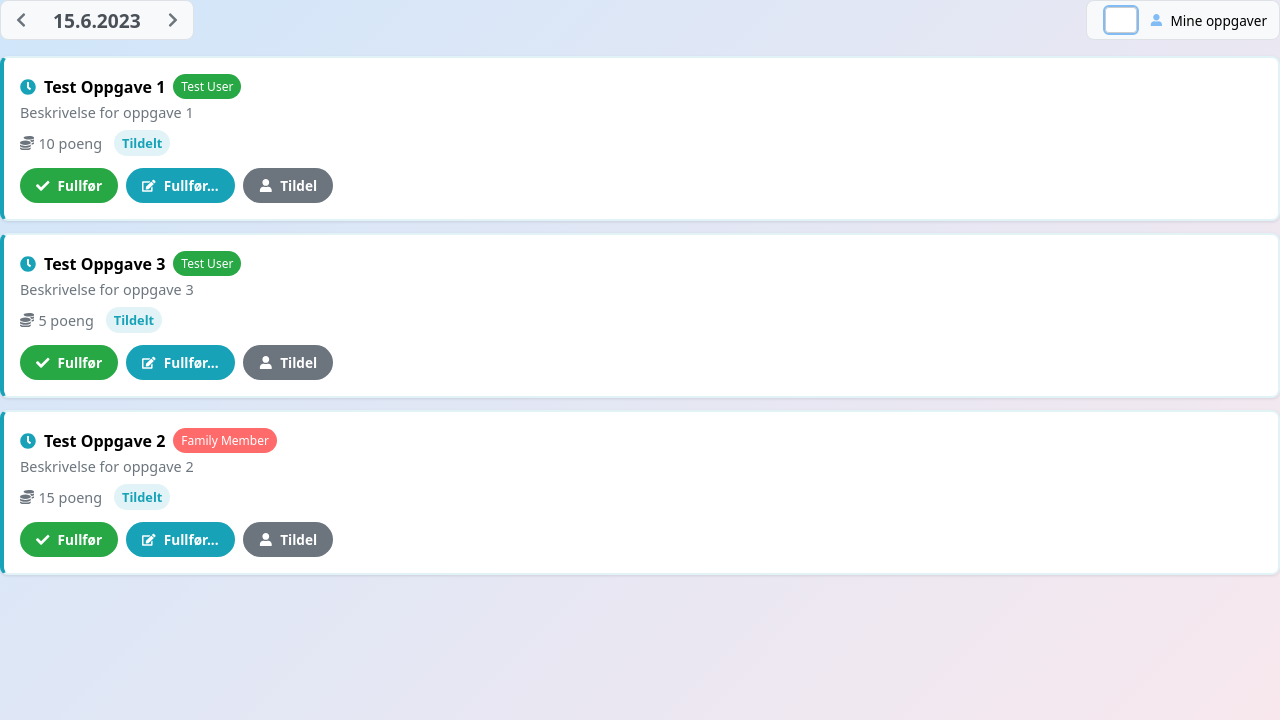
TaskList › Mine oppgaver filter › should toggle between all tasks and assigned tasks correctly
The image size is (1280, 720).
Expected: the heading "Test Oppgave 1 Test User" is shown, [20,74,241,99]
Expected: the heading "Test Oppgave 2 Family Member" is shown, [20,428,277,453]
// Toggle to show only assigned tasks (member-1 has task-1 and task-3 assigned)
Click the checkbox at [1121, 20], box [1103,5,1139,35]
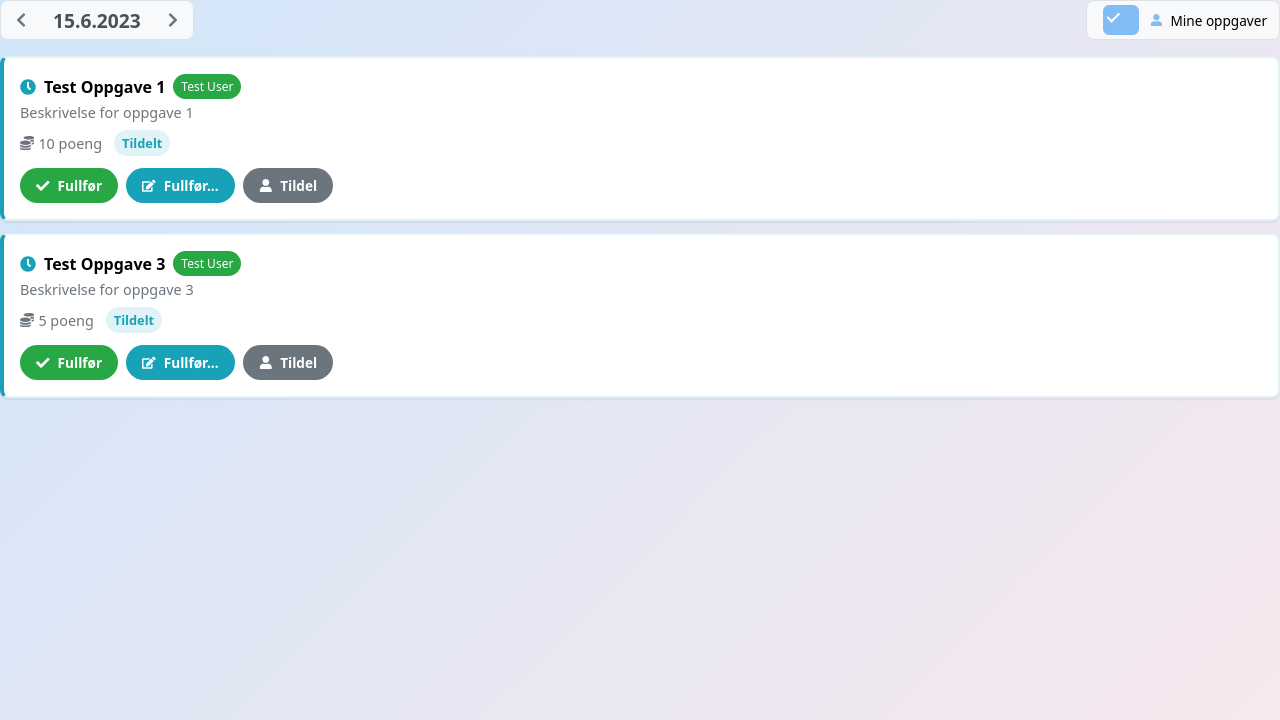
Expected: the heading "Test Oppgave 1 Test User" is shown, [20,74,241,99]
Now the heading "Test Oppgave 2" is gone
// Toggle back to show all tasks
Click the checkbox at [1121, 20], box [1103,5,1139,35]
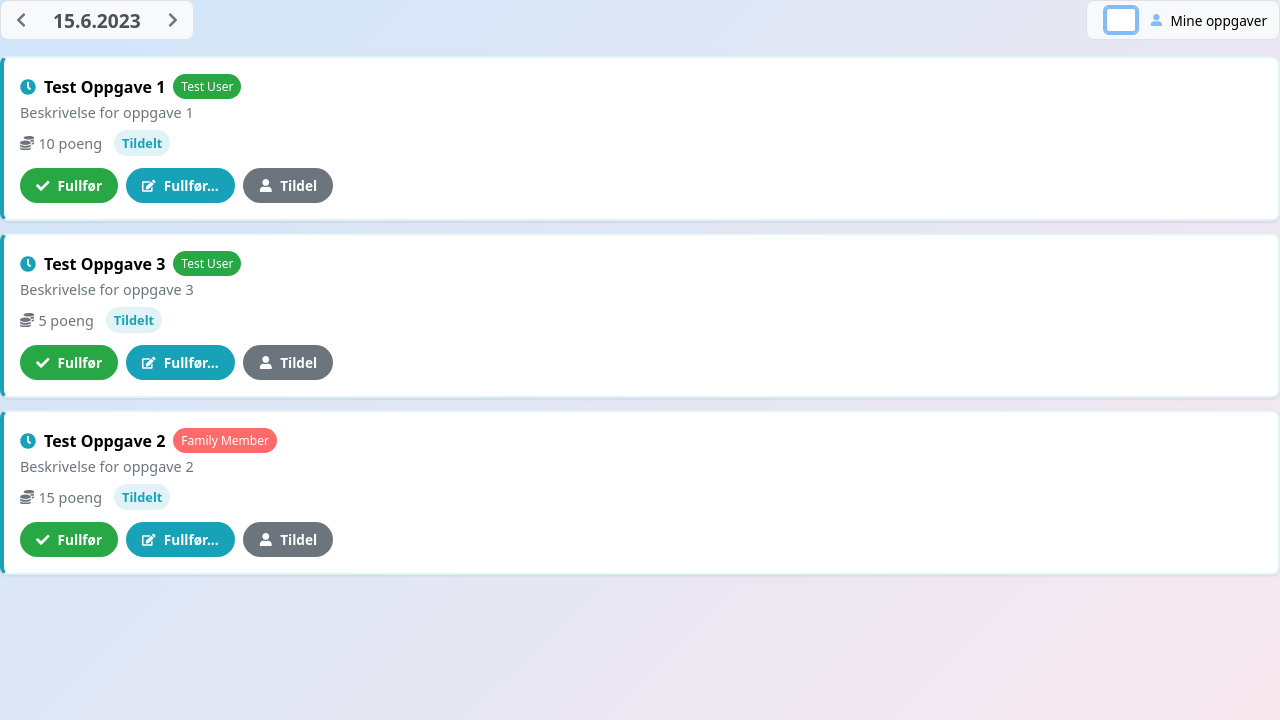
Expected: the heading "Test Oppgave 1 Test User" is shown, [20,74,241,99]
Now the heading "Test Oppgave 2 Family Member" is shown, box [20,428,277,453]
